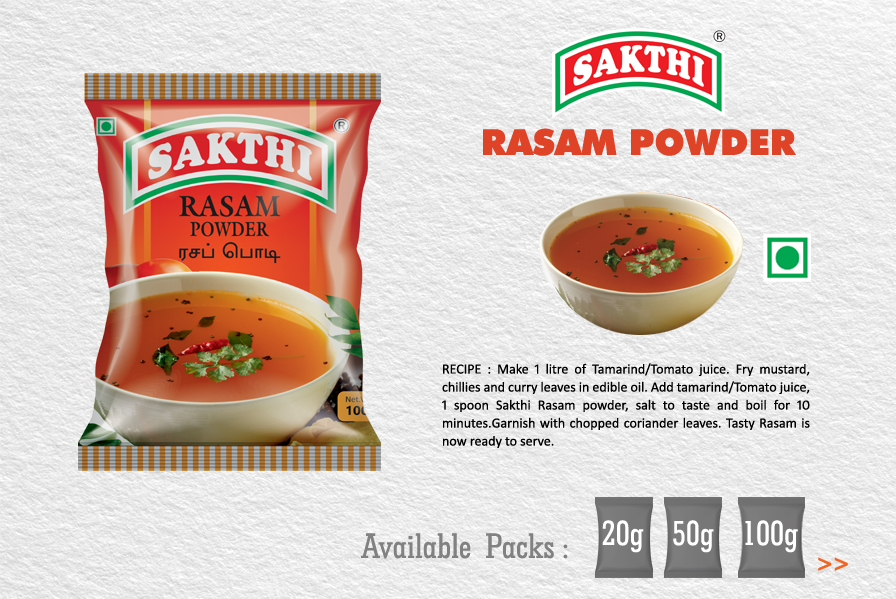VEG: (760, 230, 817, 286), (96, 116, 119, 138)
